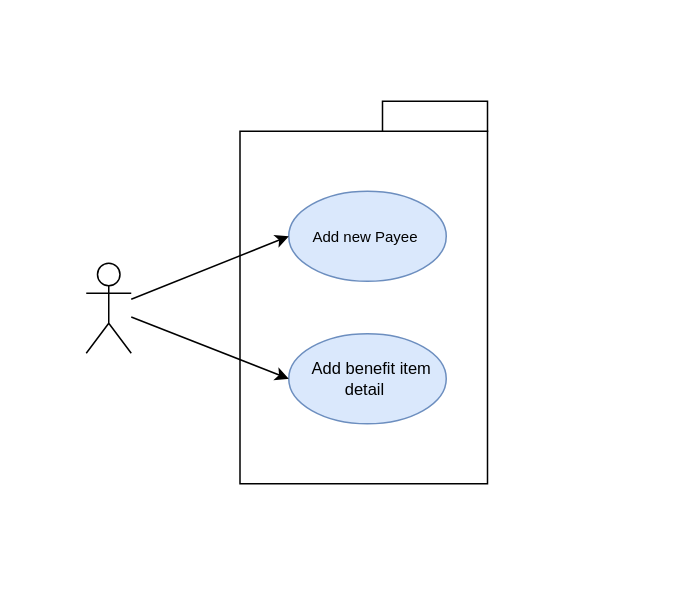
The diagram is 681 pixels wide and 606 high, and some of its shapes have lost their labels. Each missing label, with the box of its shape:
Actor: (85, 262, 131, 353)
Claim: (381, 100, 488, 131)
